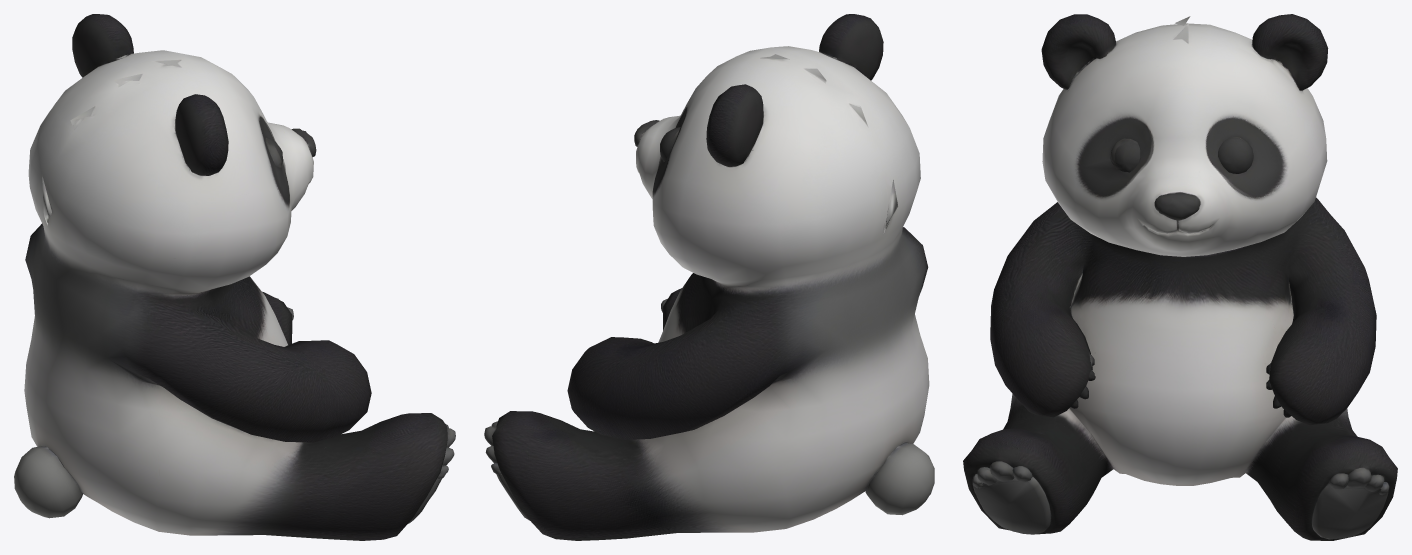
Rendered from panda.glb.
3 renders of one model, left to right at view 1: azimuth 30°, elevation 25°; view 2: azimuth 150°, elevation 25°; view 3: azimuth 270°, elevation 25°, orthographic. The views are drawn at different scales.
Visible parts, largest first — view 1: tripo_node_52a93676-38ab-4a75-ba07-5370a7c12fd1; view 2: tripo_node_52a93676-38ab-4a75-ba07-5370a7c12fd1; view 3: tripo_node_52a93676-38ab-4a75-ba07-5370a7c12fd1.
Boxes of the visible parts, <box> form: tripo_node_52a93676-38ab-4a75-ba07-5370a7c12fd1: <box>14,14,455,540</box>; tripo_node_52a93676-38ab-4a75-ba07-5370a7c12fd1: <box>484,14,934,540</box>; tripo_node_52a93676-38ab-4a75-ba07-5370a7c12fd1: <box>963,14,1397,540</box>.
Size of the model in its own units: 0.8105 by 0.998 by 0.877.
Materials: 1 (1 with a texture image).
